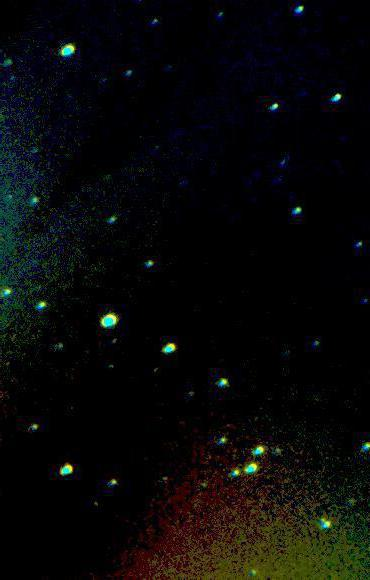star: (93, 168, 123, 198)
